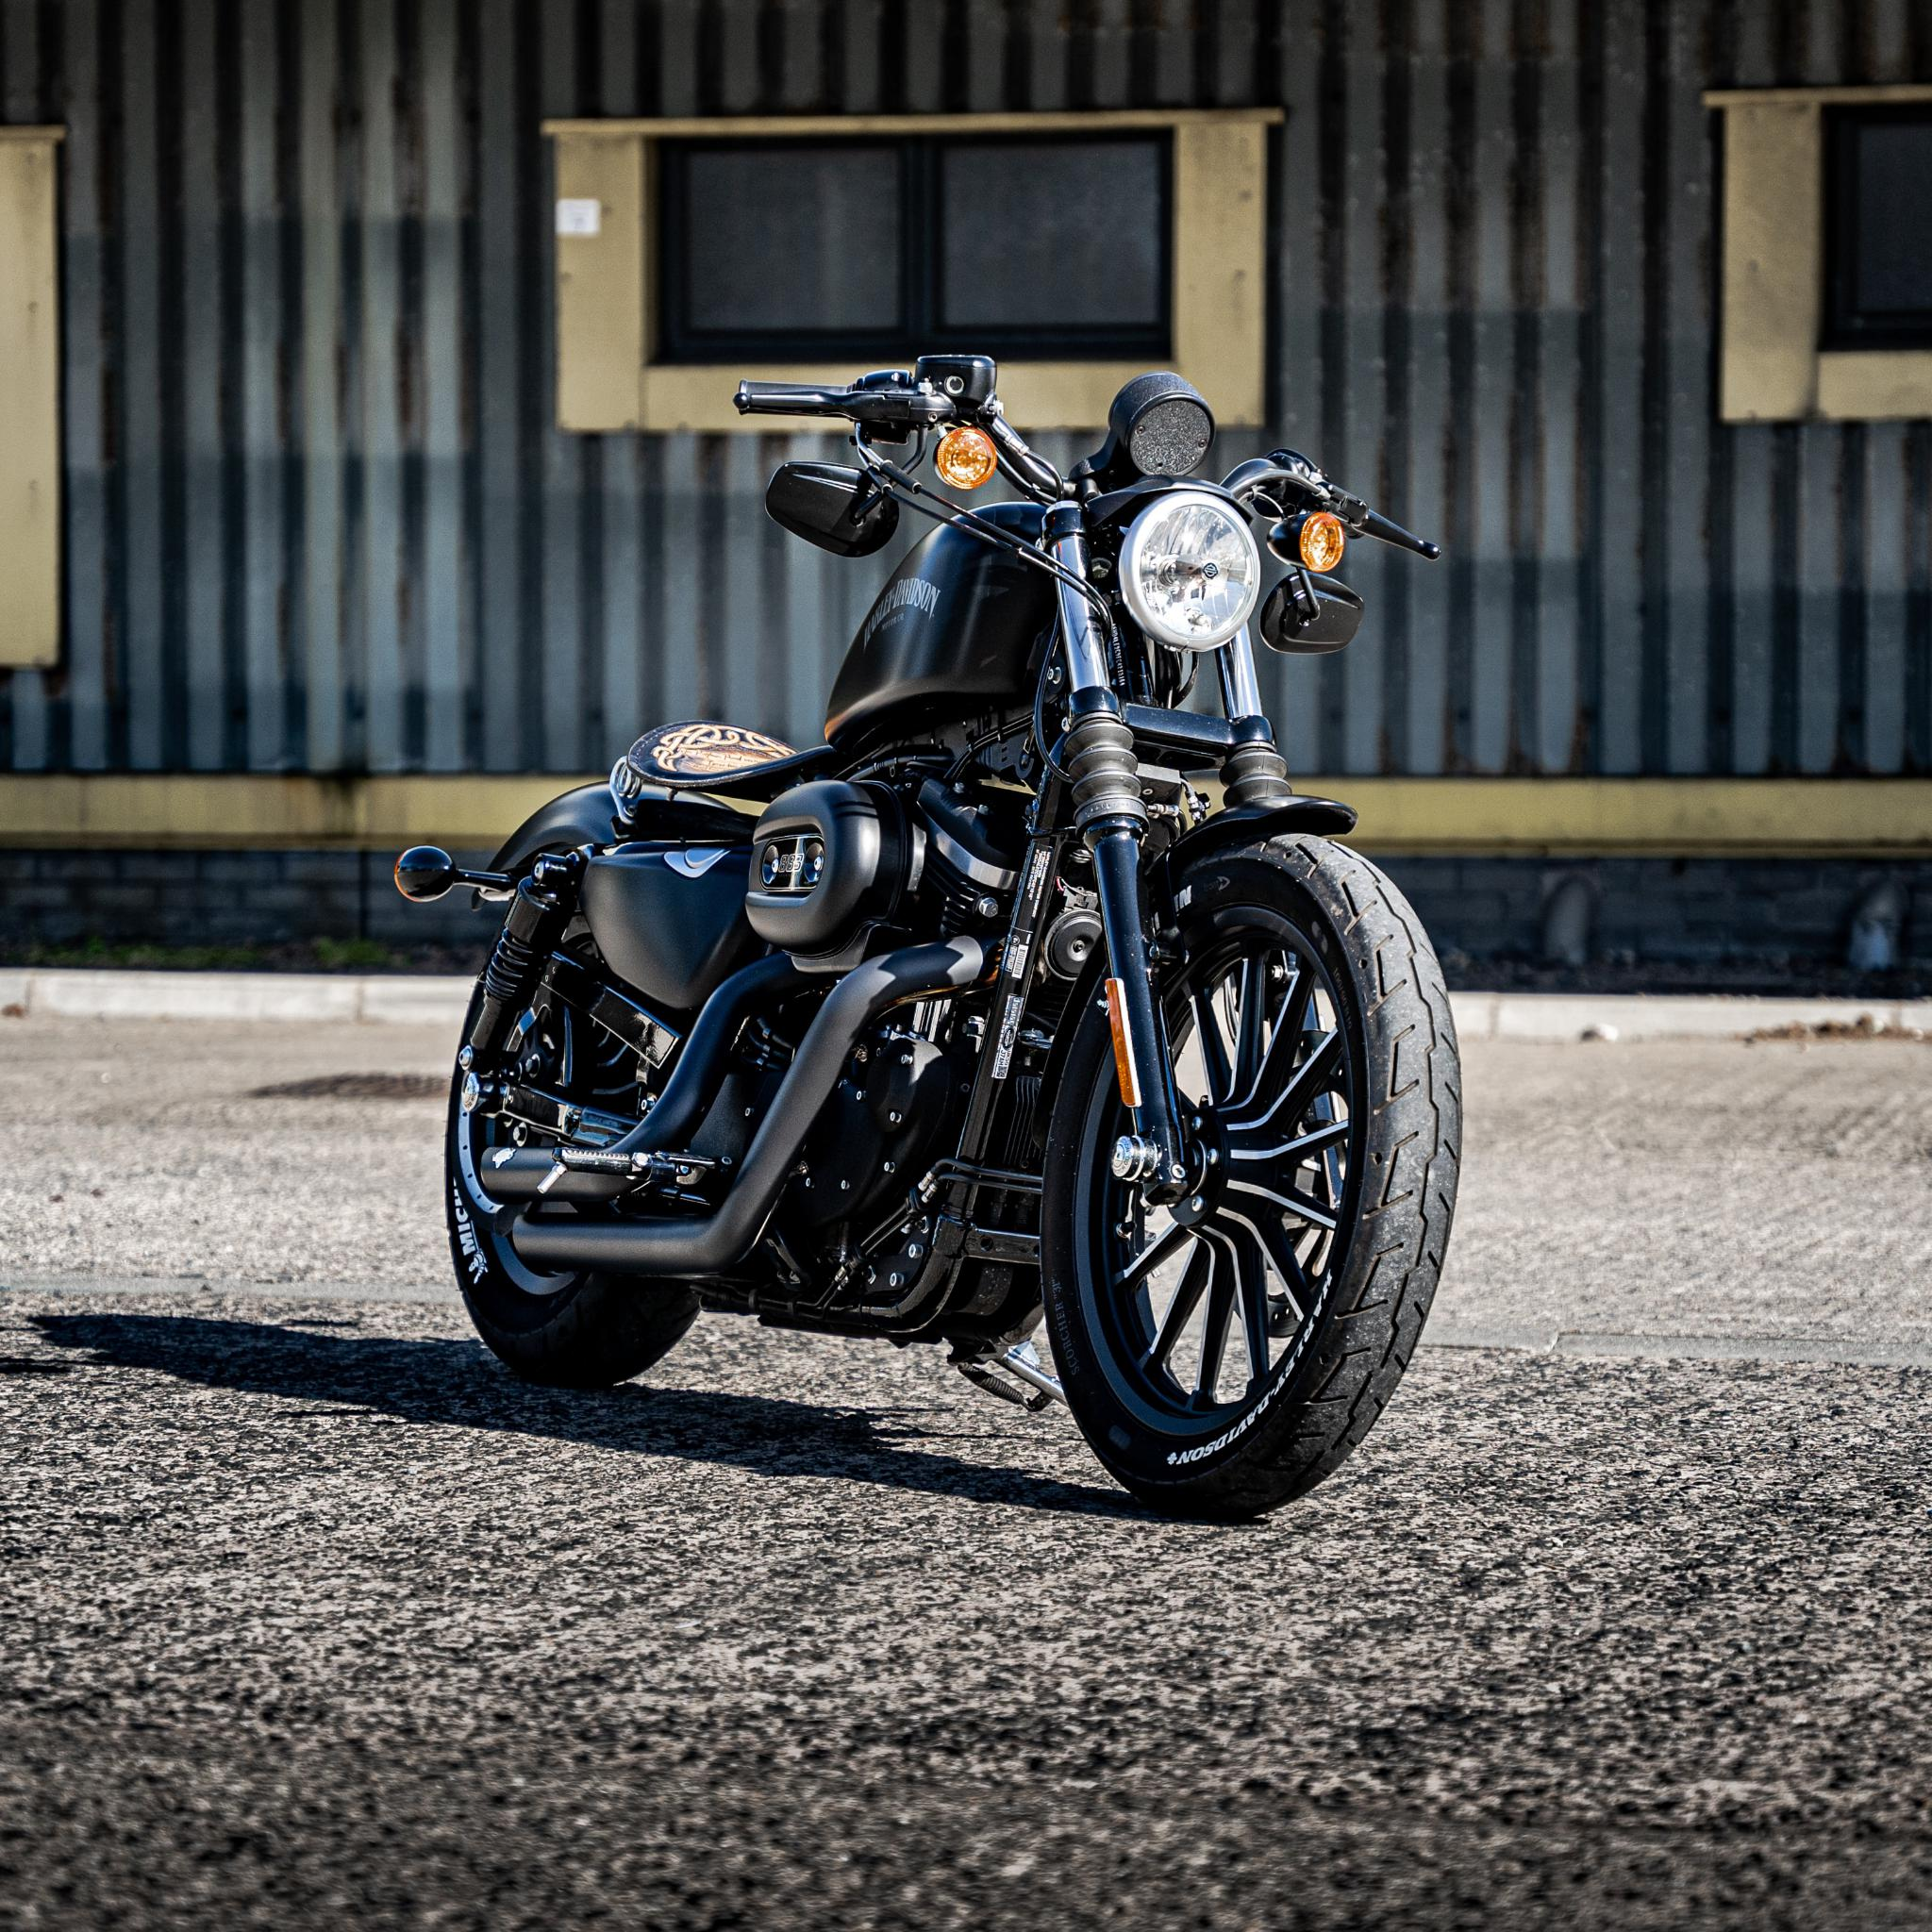motorcycle: (352, 269, 1486, 1536)
